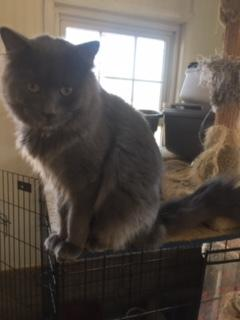rblue: (1, 16, 105, 135)
